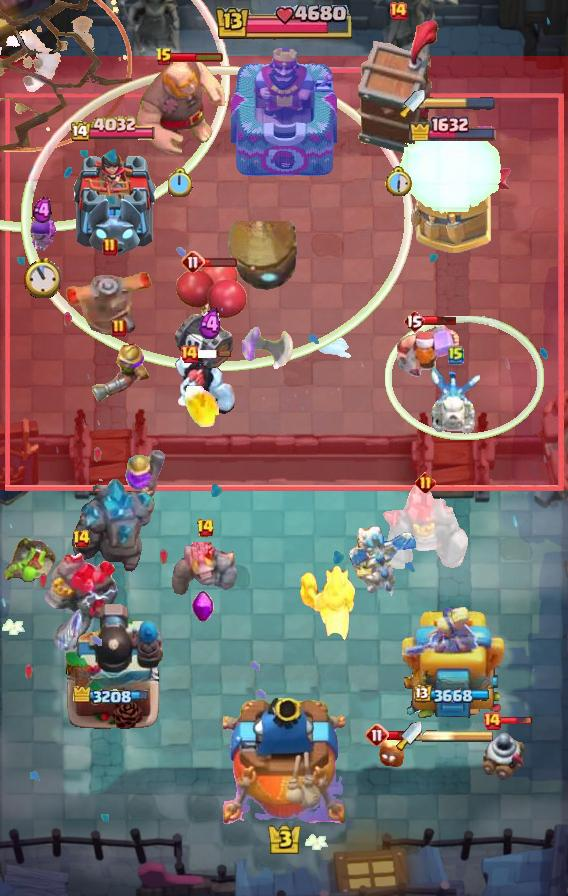balloon: (133, 57, 227, 157)
bar: (394, 142, 512, 256), (399, 607, 507, 731)
bar-level: (0, 535, 58, 583)
bomb-tower: (87, 340, 151, 406), (124, 450, 166, 502)
bomber: (378, 737, 406, 769)
cannoneer-tower: (68, 479, 156, 577), (380, 482, 470, 572), (42, 549, 120, 651)
clock: (213, 5, 355, 43)
dark-prince: (62, 253, 158, 343)
dart-goblin: (356, 18, 440, 156)
electro-spirit: (197, 308, 222, 340), (33, 196, 52, 224)
elixir: (24, 258, 61, 299), (384, 167, 412, 197), (167, 168, 192, 196)
emote: (172, 51, 225, 63), (202, 257, 238, 268), (422, 315, 458, 326), (196, 349, 232, 359), (499, 716, 533, 726), (386, 731, 406, 742)
freeze: (300, 562, 360, 646)
goblin: (28, 215, 57, 253)
goblin-drill: (482, 726, 528, 780)
guard: (0, 0, 132, 152)
king-tower: (223, 698, 345, 826), (231, 43, 337, 181)
king-tower-bar: (422, 729, 494, 743), (425, 97, 495, 111)
mega-knight: (398, 125, 504, 218)
mighty-miner: (394, 322, 462, 378)
mini-pekka: (348, 521, 420, 601), (429, 364, 483, 436)
queen-tower: (71, 144, 157, 255)
rage: (172, 353, 238, 417)
royal-giant: (242, 325, 294, 375)
royal-recruit-evolution: (171, 258, 249, 372)
selected: (408, 113, 498, 141), (70, 116, 157, 144), (73, 686, 155, 708), (414, 685, 492, 705)
skeleton-king-skill: (193, 590, 216, 624)
text: (181, 250, 205, 274), (365, 723, 389, 747), (403, 309, 425, 333), (415, 471, 437, 492), (388, 1, 408, 21), (179, 344, 199, 364), (196, 518, 216, 538), (482, 711, 502, 731), (72, 529, 91, 549), (155, 47, 173, 67), (102, 237, 118, 257), (111, 318, 127, 338), (448, 345, 464, 365)
tower-bar: (64, 601, 164, 731)
valkyrie: (183, 386, 221, 432)
valkyrie-evolution: (172, 542, 238, 602)
x-bow: (226, 221, 304, 299)
